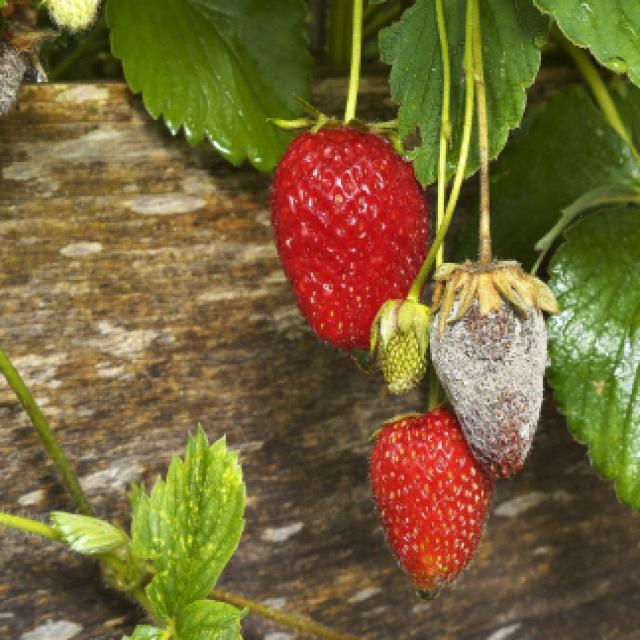Gray Mold: (429, 258, 561, 480), (0, 49, 49, 117)
